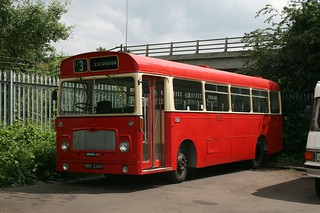bus: (53, 50, 283, 183)
